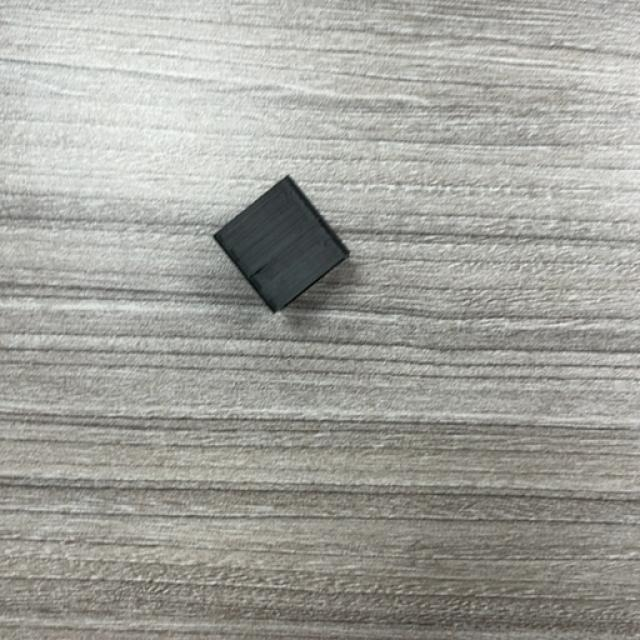Negro: (212, 176, 351, 315)
